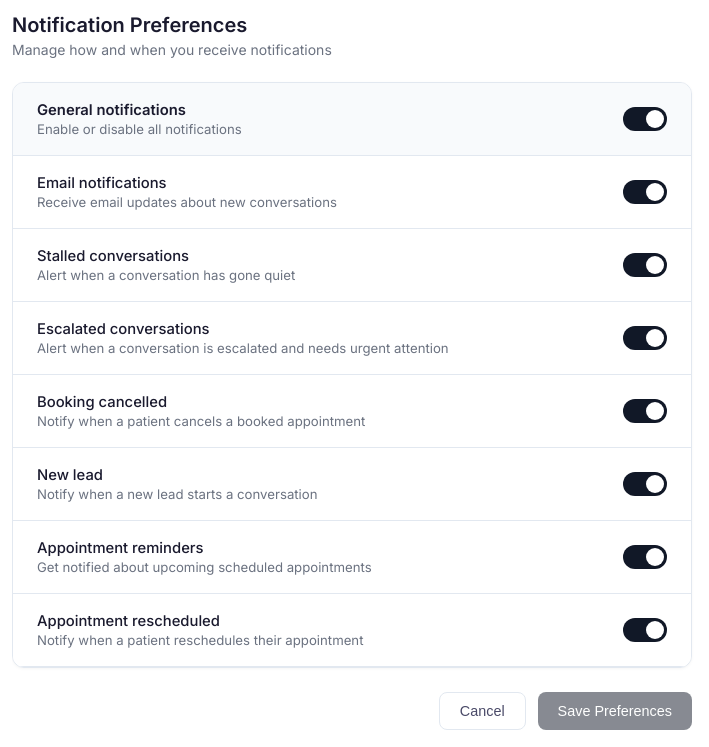
NotificationPreferences › disables individual toggles when general notifications is toggled off
Click the switch named "General notifications" at point(645, 119), box x1=623 y1=107 x2=667 y2=131
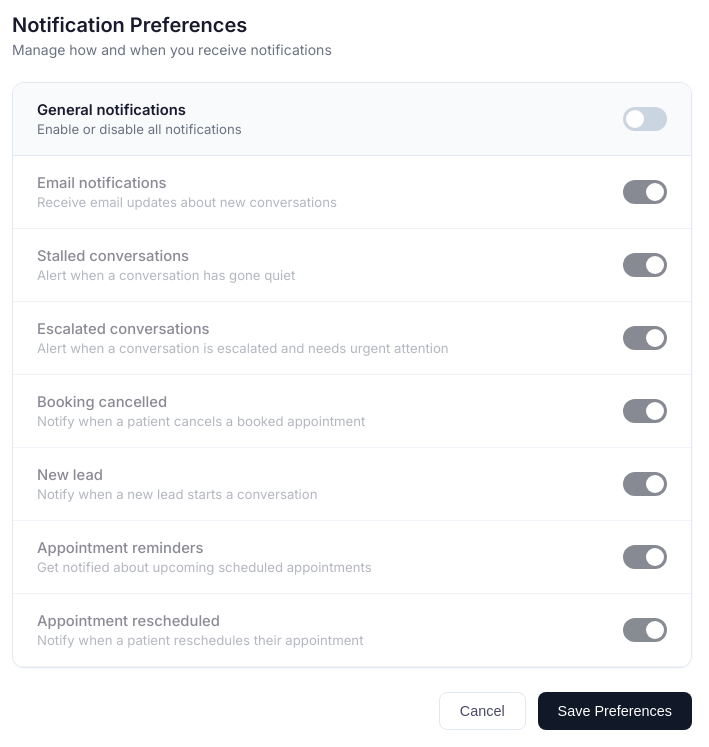
Check: the switch named "Email notifications" is disabled, box x1=623 y1=180 x2=667 y2=204
